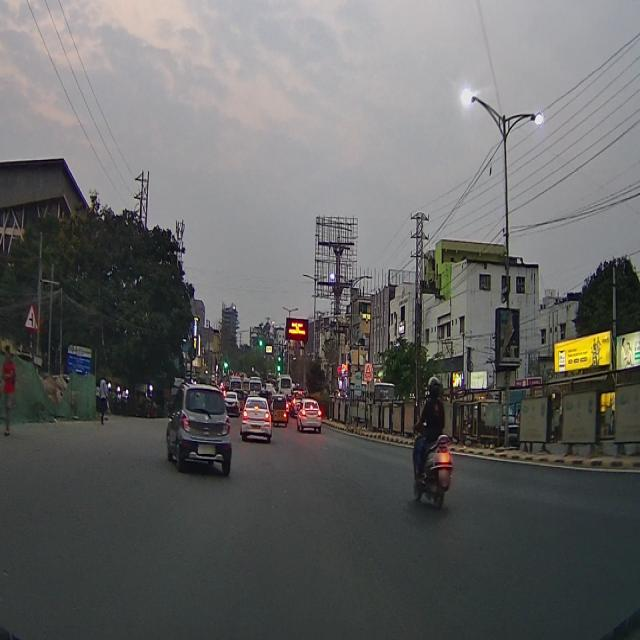side-road-left: (24, 305, 38, 328)
